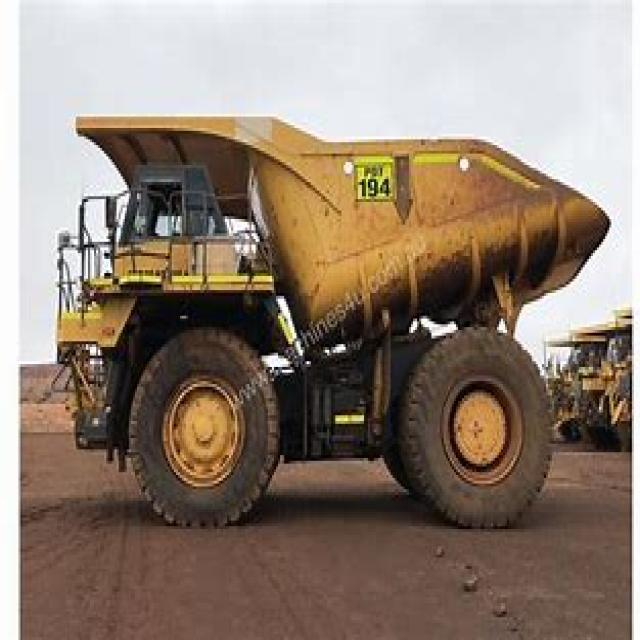dump_truck: (56, 102, 610, 535)
